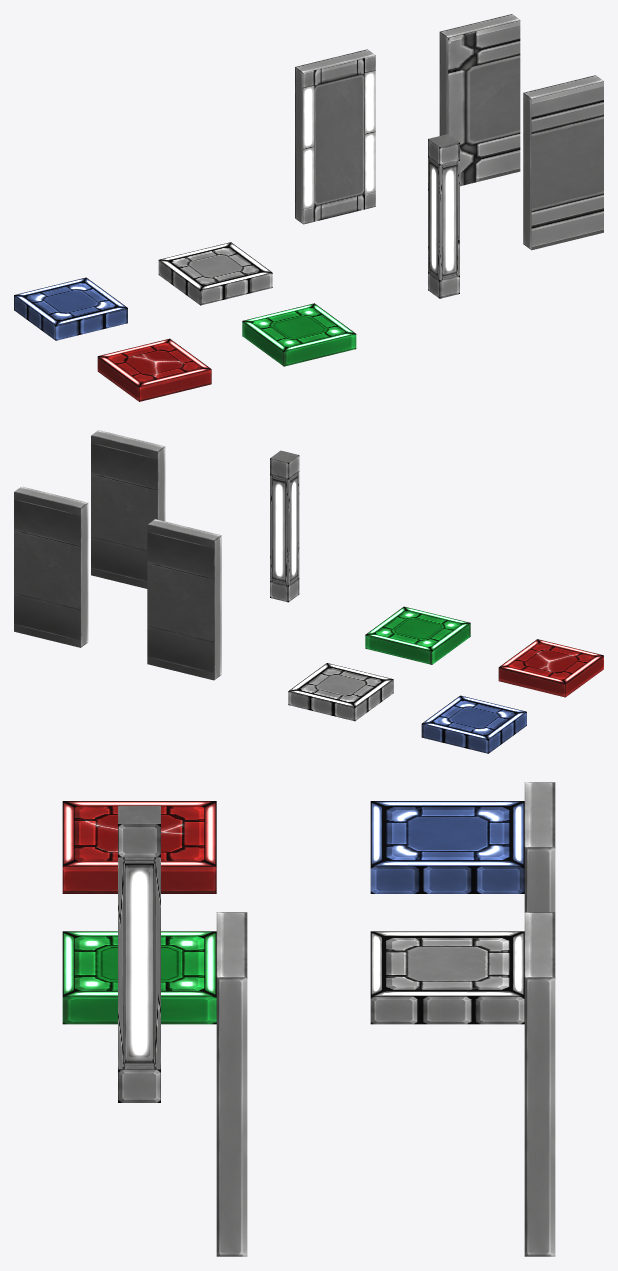
The model's file is tiles.glb.
3 views of the same model, one above another, from view 1: azimuth 30°, elevation 25°; view 2: azimuth 150°, elevation 25°; view 3: azimuth 270°, elevation 25° (orthographic). The views are drawn at different scales.
Parts seen in each view (by area): view 1: wall_a.02, wall_b, wall_a.01, Cube, tile_move, tile_damaged, tile_default, tile_organized; view 2: wall_b, wall_a.01, wall_a.02, Cube, tile_default, tile_organized, tile_move, tile_damaged; view 3: tile_default, tile_organized, Cube, wall_a.01, wall_a.02, tile_damaged, tile_move, wall_b.
Part boxes in pixels (box(x1,y1,x2,y2)): wall_a.02: box(523, 75, 603, 250); wall_b: box(295, 49, 375, 224); wall_a.01: box(439, 14, 520, 186); Cube: box(428, 134, 459, 298); tile_move: box(242, 303, 356, 366); tile_damaged: box(97, 338, 211, 401); tile_default: box(158, 242, 272, 305); tile_organized: box(14, 277, 127, 340); wall_b: box(147, 519, 221, 680); wall_a.01: box(14, 486, 88, 647); wall_a.02: box(91, 430, 165, 588); Cube: box(270, 450, 299, 602); tile_default: box(288, 663, 393, 721); tile_organized: box(421, 695, 526, 753); tile_move: box(365, 606, 470, 664); tile_damaged: box(498, 639, 603, 697); tile_default: box(370, 931, 524, 1024); tile_organized: box(370, 801, 524, 893); Cube: box(118, 805, 160, 1102); wall_a.01: box(524, 912, 555, 1256); wall_a.02: box(216, 912, 247, 1256); tile_damaged: box(62, 801, 216, 893); tile_move: box(62, 931, 216, 1024); wall_b: box(524, 782, 555, 912).
Bounding box in the file's own units: 7 × 2.2 × 3.2.
Materials: 4 (4 with a texture image).
